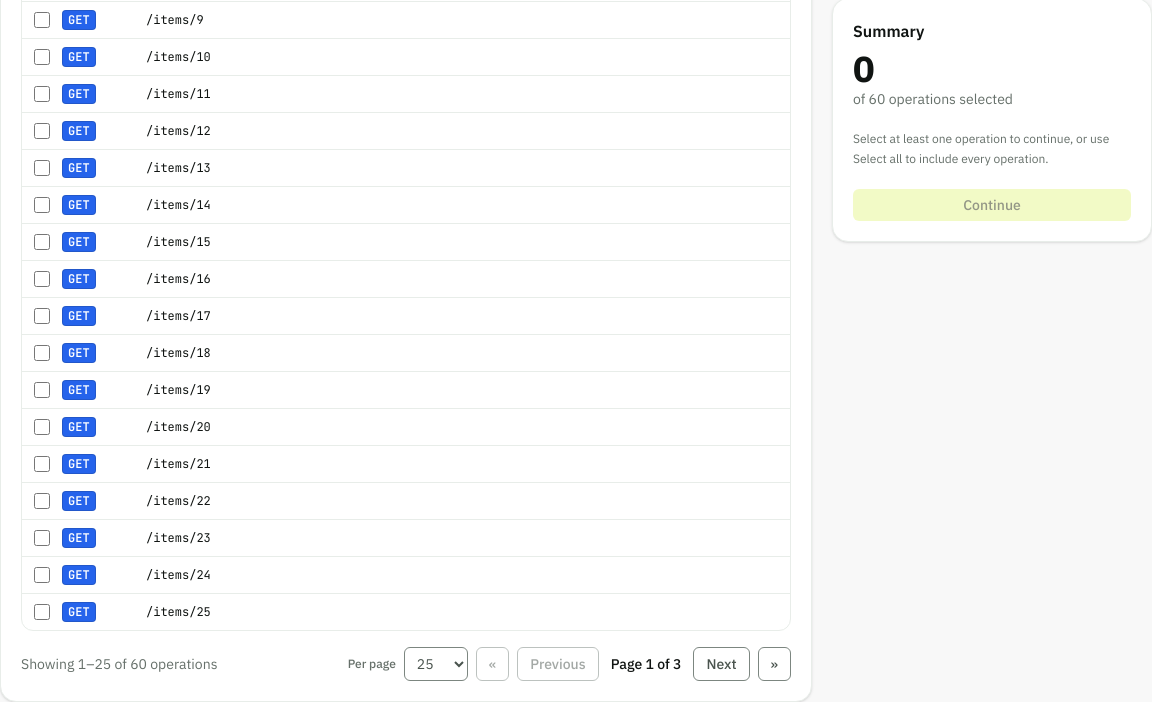
Scenario: ApiReviewStage pagination › lists one page of operations and moves between pages
The image size is (1152, 702).
(page scrolled)
expect the text "Showing 1–25 of 60 operations" is shown: met, box [21,654,218,674]
expect the button "Previous" is disabled: met, box [517,647,599,681]
Click the button "Next" at (721, 664), box [693,647,750,681]
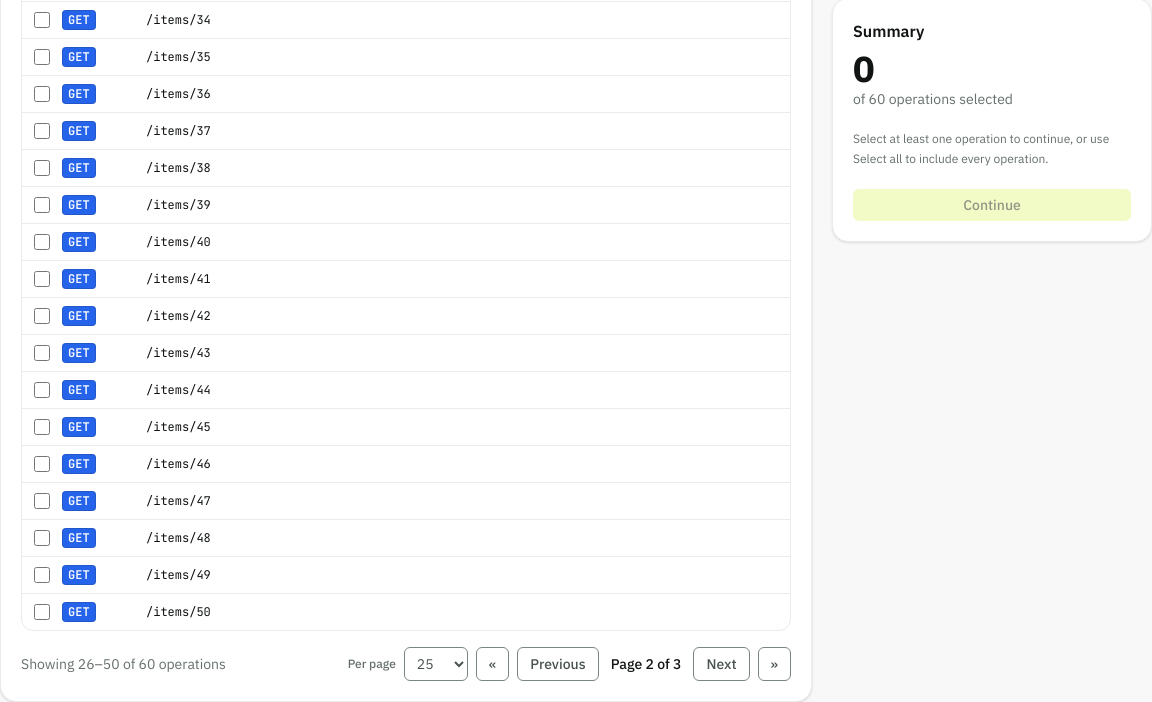
expect the text "Showing 26–50 of 60 operations" is shown: met, box [21,654,226,674]
Click the button named "Last page" at (774, 664), box [758,647,791,681]
(page scrolled)
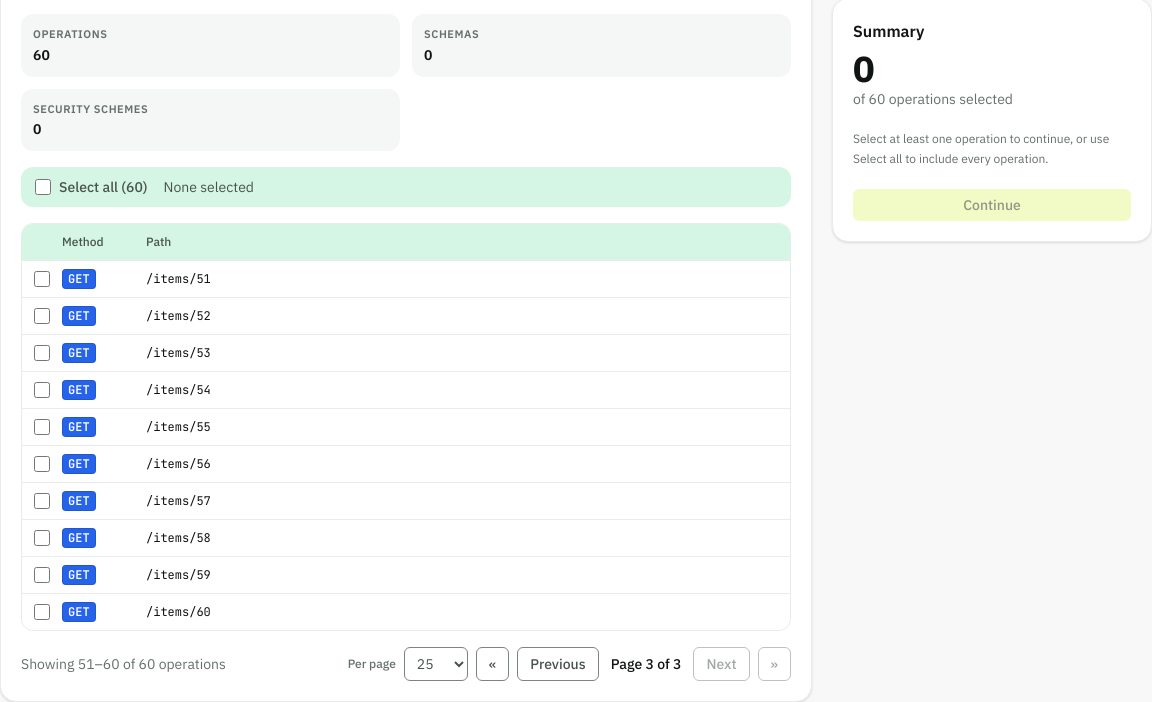
expect the text "Showing 51–60 of 60 operations" is shown: met, box [21,654,226,674]
expect the button "Next" is disabled: met, box [693,647,750,681]
